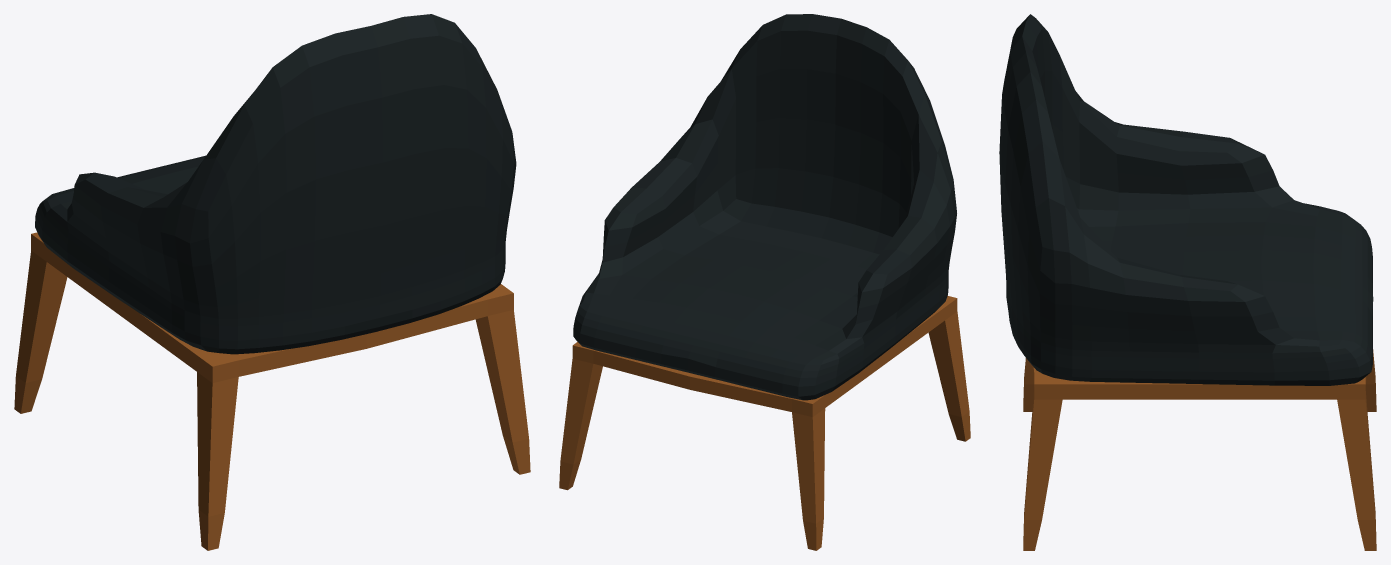
The model's file is chair01.fbx.
3 renders of one model, left to right at view 1: azimuth 30°, elevation 25°; view 2: azimuth 150°, elevation 25°; view 3: azimuth 270°, elevation 25°, orthographic. The views are drawn at different scales.
Visible parts, largest first — view 1: Chairs_all.001; view 2: Chairs_all.001; view 3: Chairs_all.001.
Part boxes in pixels (x1,y1,x2,y2): Chairs_all.001: (14, 14, 530, 550); Chairs_all.001: (559, 14, 970, 550); Chairs_all.001: (999, 14, 1376, 550).
Bounding box in the file's own units: 85.53 × 111 × 85.22.
